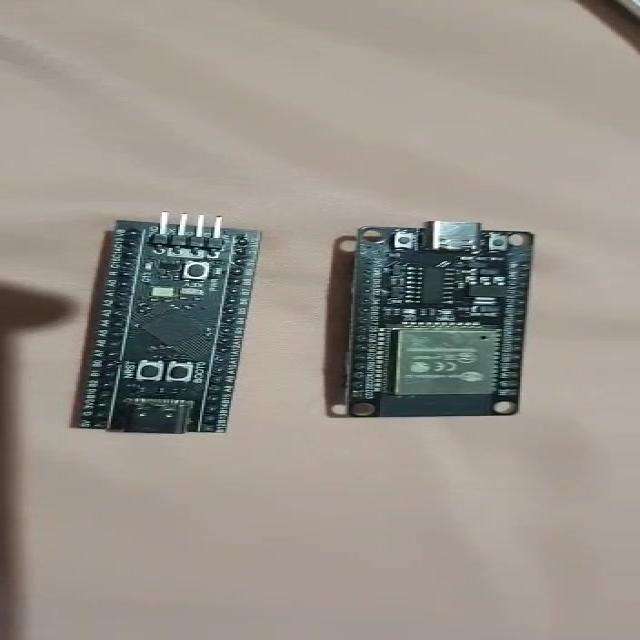ESP32: (345, 222, 534, 417)
STM32: (74, 214, 260, 435)
